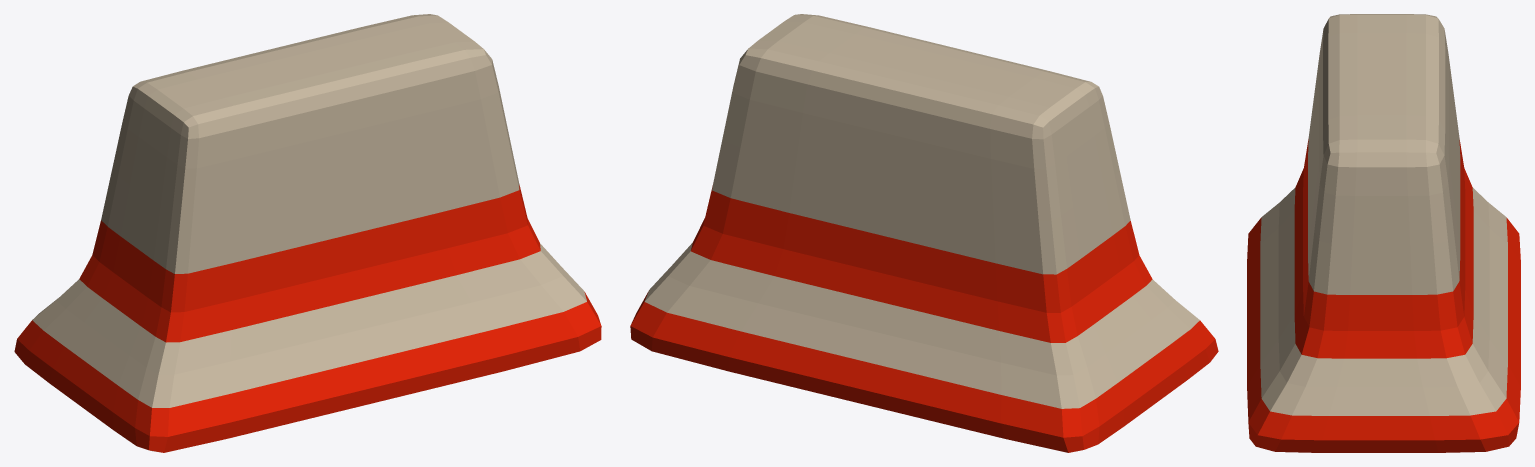
The model's file is Obstacle.fbx.
3 views of the same model, side by side, from view 1: azimuth 30°, elevation 25°; view 2: azimuth 150°, elevation 25°; view 3: azimuth 270°, elevation 25° (orthographic). The views are drawn at different scales.
Visible parts, largest first — view 1: Cube.002; view 2: Cube.002; view 3: Cube.002.
Boxes of the visible parts, <box> form: Cube.002: <box>14,14,601,452</box>; Cube.002: <box>630,14,1218,452</box>; Cube.002: <box>1247,14,1520,452</box>.
Size of the model in its own units: 333 by 200 by 180.
